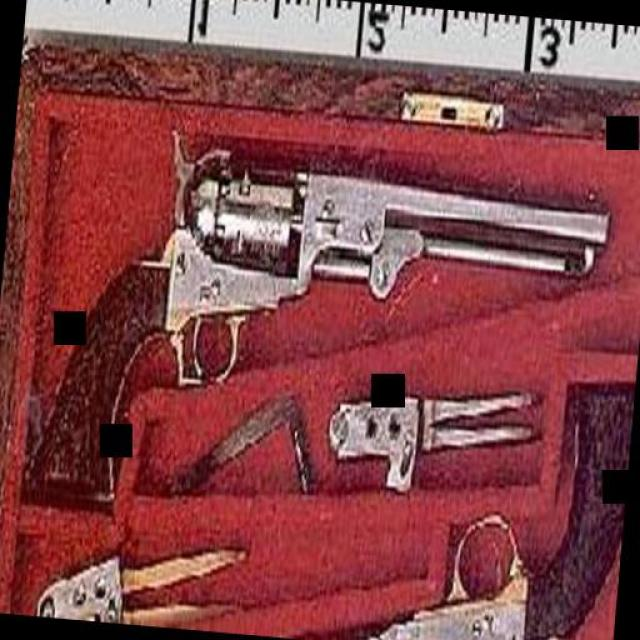gun: (19, 119, 615, 549)
